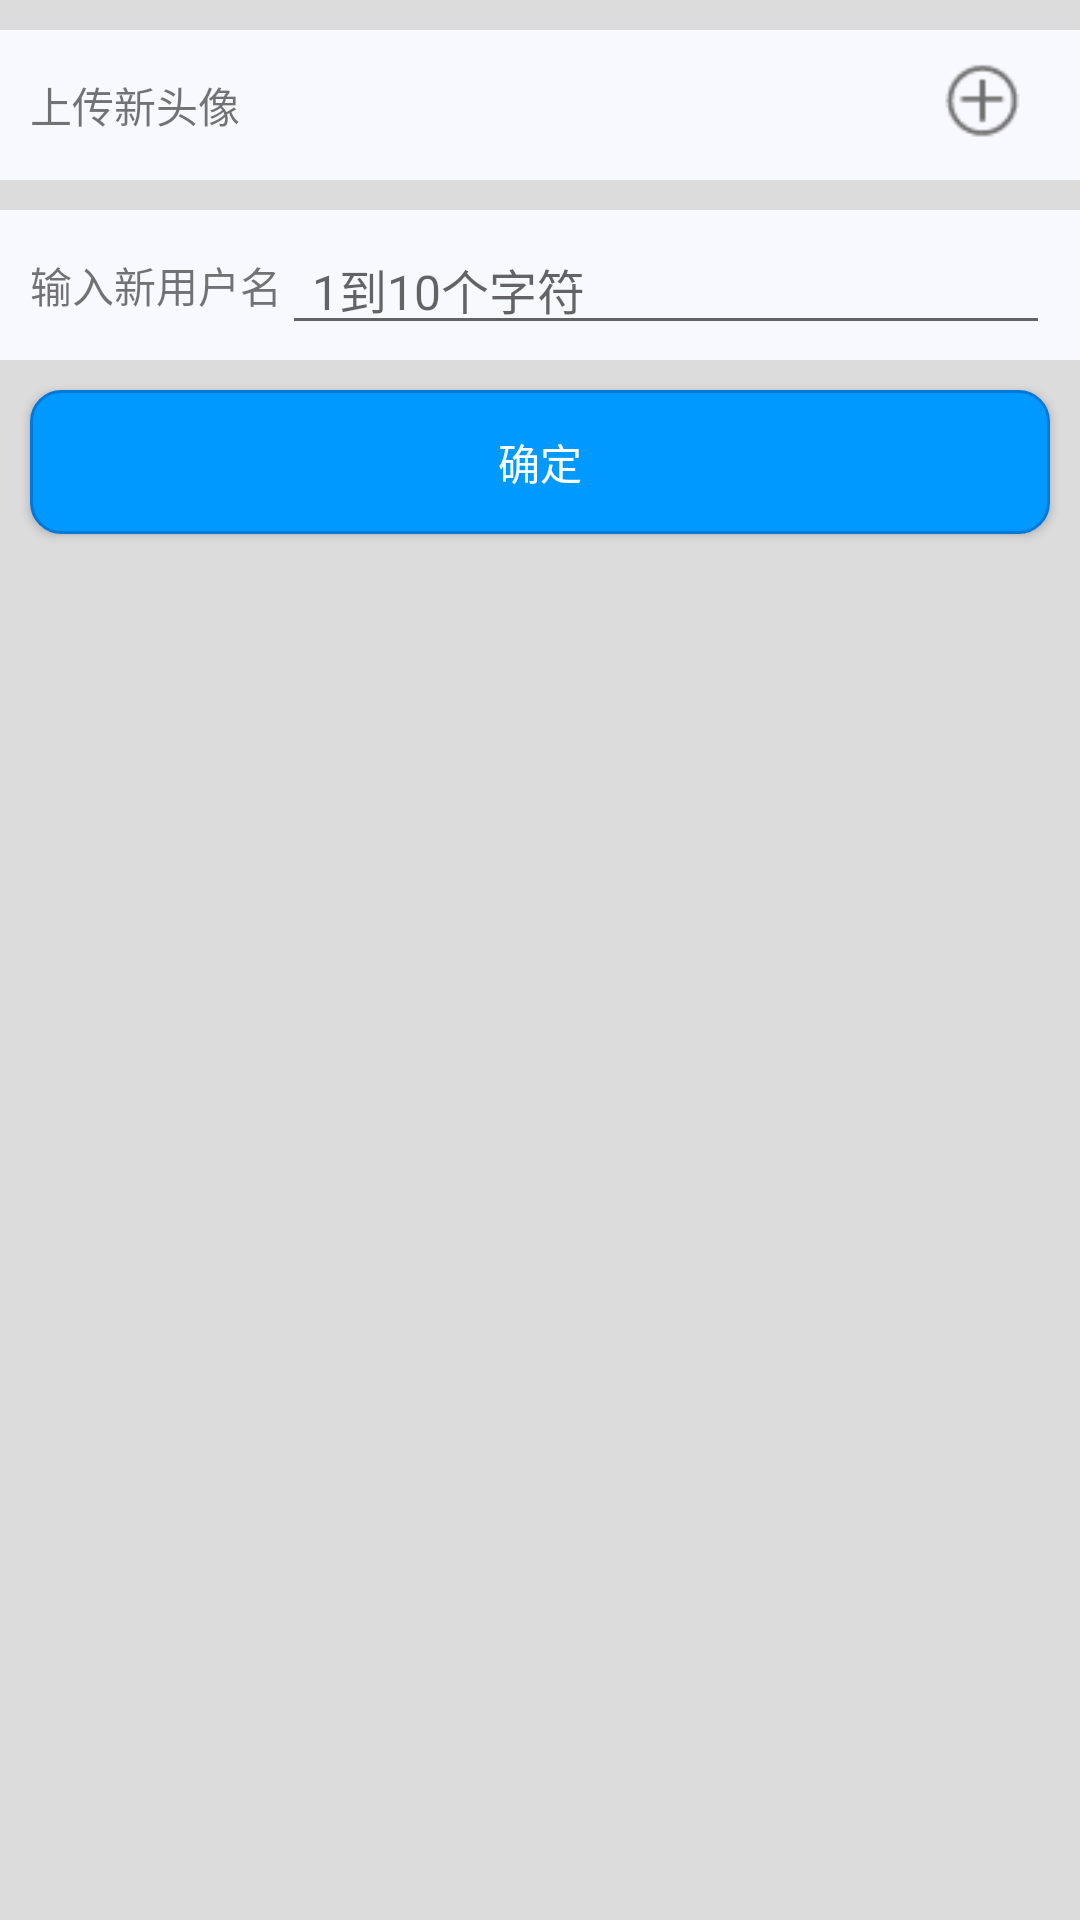

Named icons in this screenshot (1080*1920) and their bounding boxes, (x1, y1, x2, y2):
add: (946, 65, 1019, 137)
